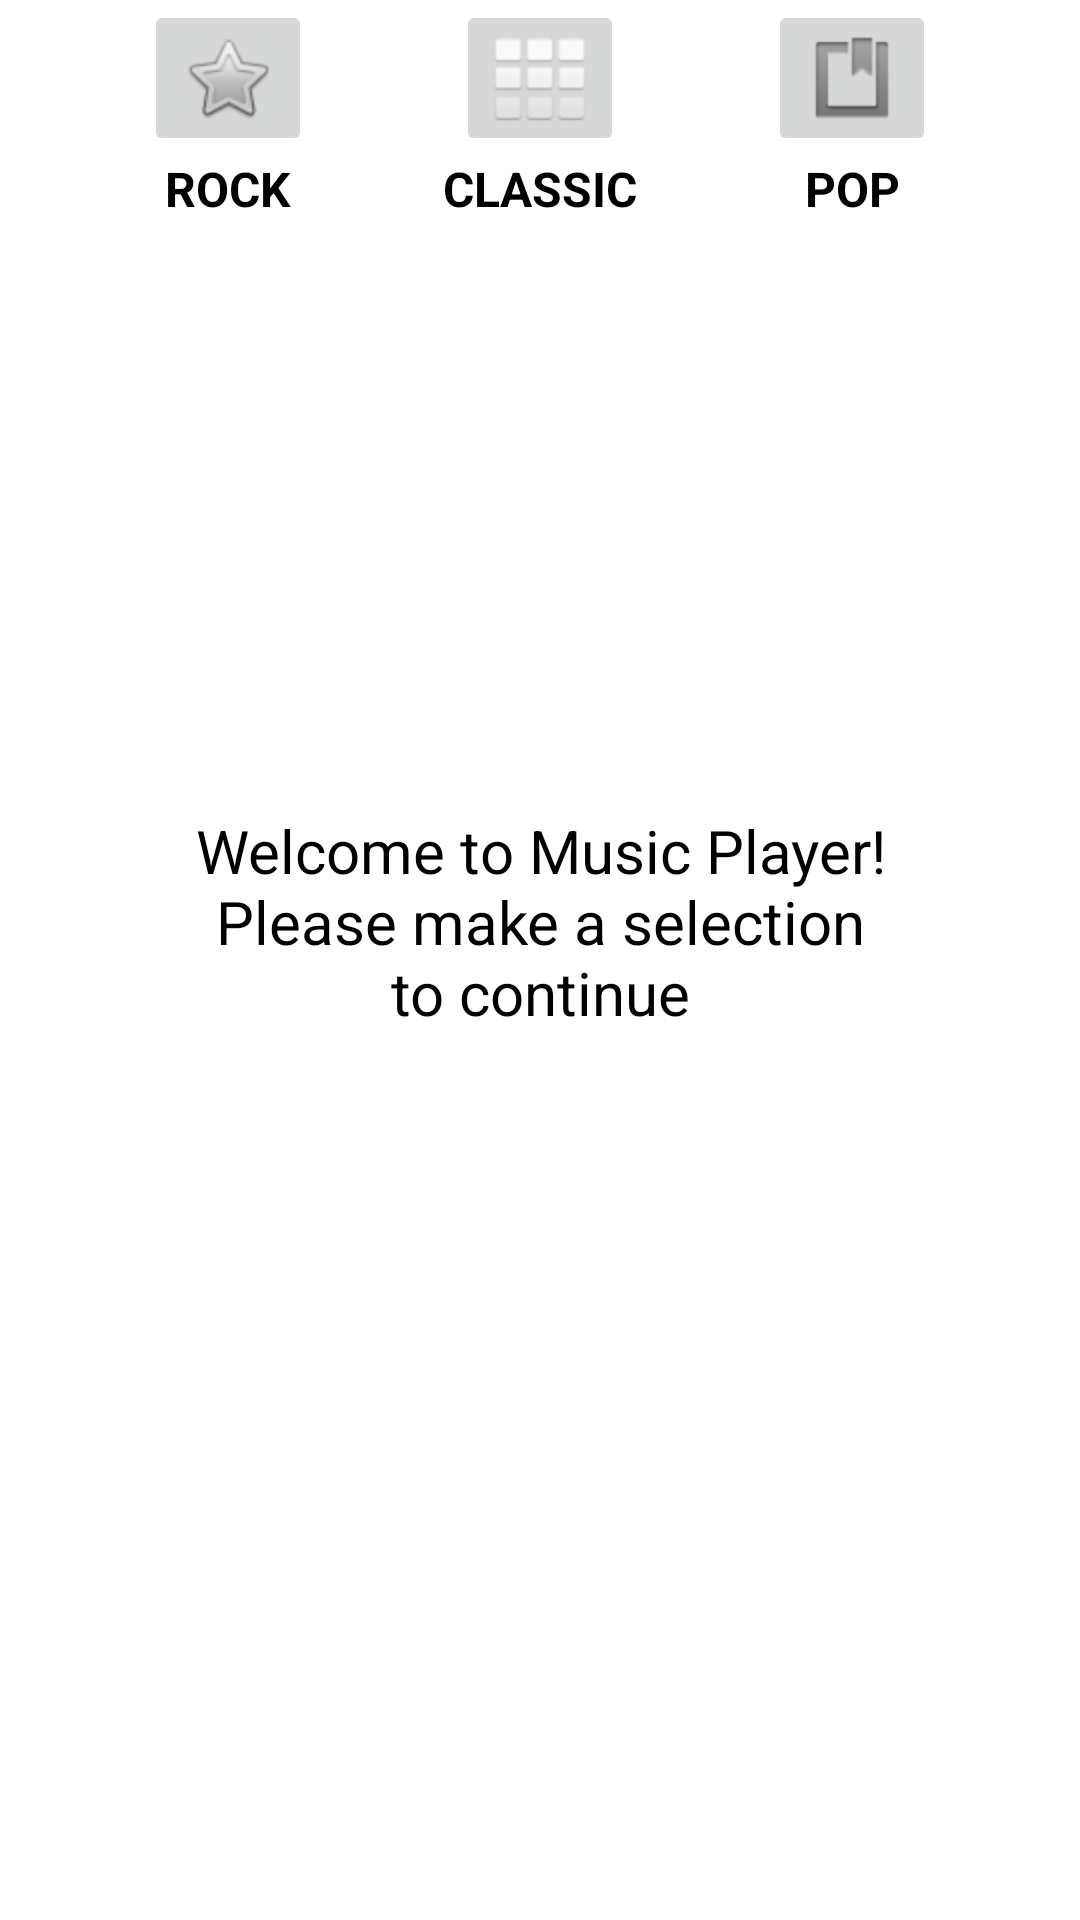

Icon bounding boxes for this 1080 x 1920 phone screenshot, format bbox(x1, y1, x2, y2):
dialer: bbox(468, 18, 612, 138)
star off: bbox(156, 18, 300, 138)
